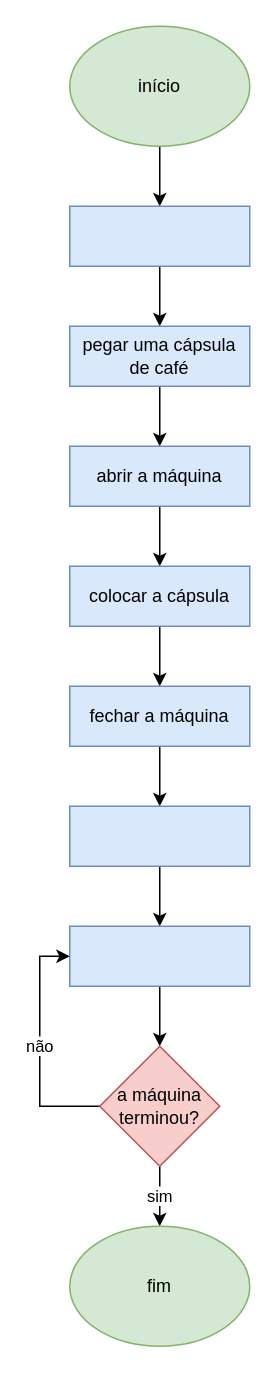
Some shapes in this 276 by 1373 pixel diagram are drawn without their labels. The box of each missing label's shape, as (x1, y1, x2, y2) in pixels:
adicionar água à máquina: (68, 205, 250, 266)
esperar: (68, 925, 250, 986)
ligar a máquina: (68, 805, 250, 866)
